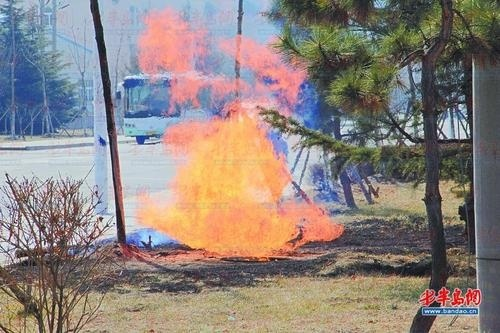fire: (125, 14, 332, 256)
